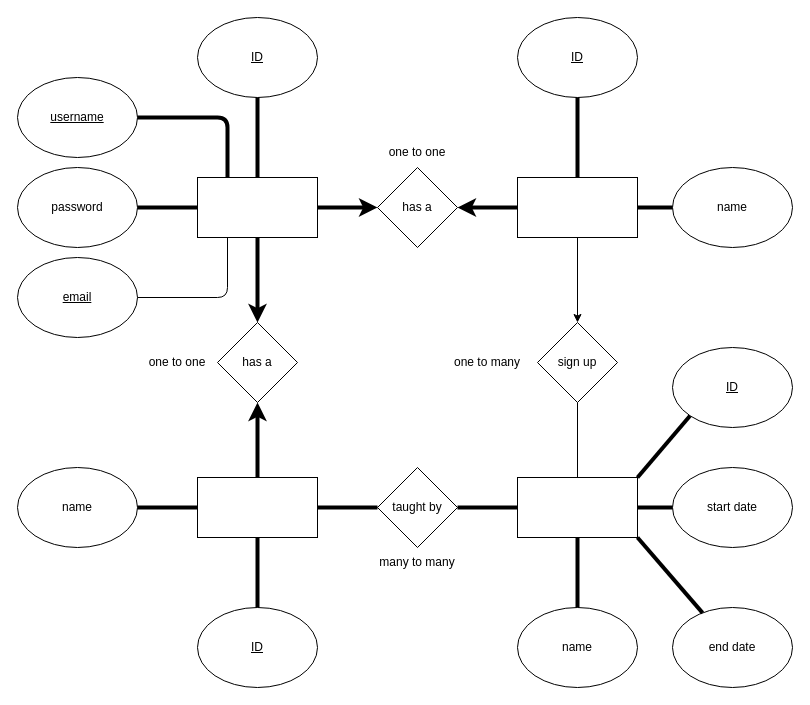
Some shapes in this 810 by 705 pixel diagram are drawn without their labels. Here are the shapes that lost their labels. From the top down, the box of each, then its label:
(196, 176, 318, 238): User Account
(516, 176, 638, 238): Student
(196, 476, 318, 538): Professor
(516, 476, 638, 538): Course
